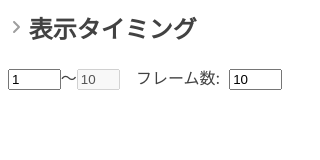
Test: Header icon › if Volume is invalid, then show Icon
Replace the text in the number field with test id "timing-volume" with "a" at (256, 79), box [229,69,282,90]
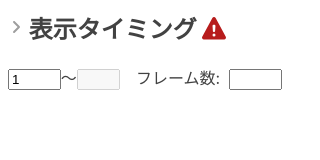
Expected: the picture with test id "config-header-icon-error" is shown, [202,17,226,41]
